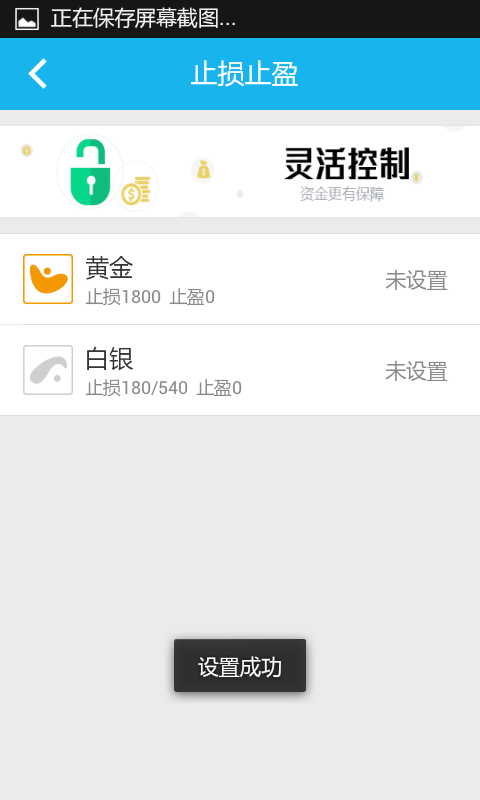alert: (162, 625, 317, 698)
textview: (13, 234, 478, 330)
